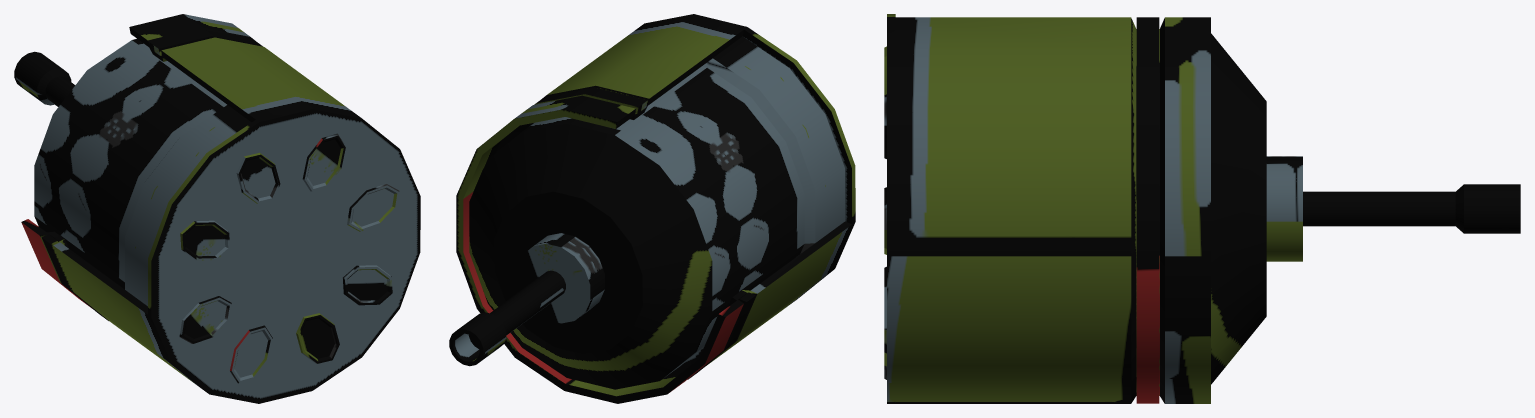
Rendered from ЗУР-ДУ-СД_П.fbx.
3 renders of one model, left to right at view 1: azimuth 30°, elevation 25°; view 2: azimuth 150°, elevation 25°; view 3: azimuth 270°, elevation 25°, orthographic. The views are drawn at different scales.
Visible parts, largest first — view 1: Circle.004; view 2: Circle.004; view 3: Circle.004.
Boxes of the visible parts, <box> form: Circle.004: <box>14,14,420,403</box>; Circle.004: <box>449,14,855,403</box>; Circle.004: <box>884,14,1520,403</box>.
Size of the model in its own units: 71.18 by 71.06 by 117.
Materials: 1 (1 with a texture image).
